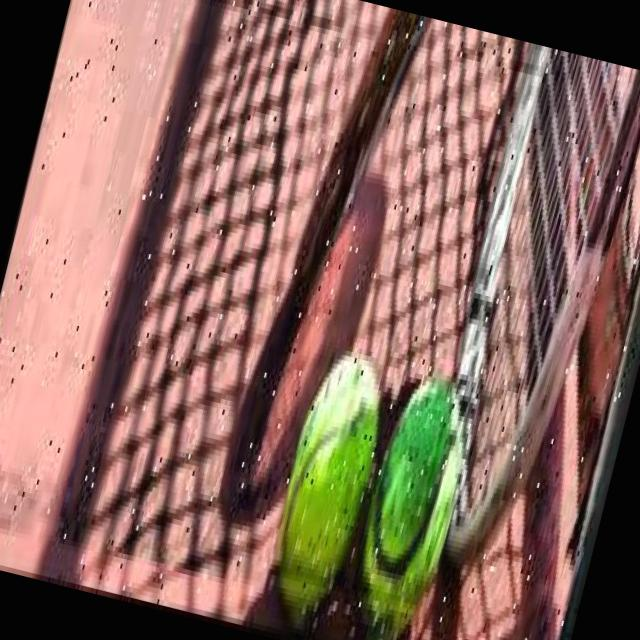tennis-ball: (254, 352, 402, 640), (336, 378, 485, 640)
